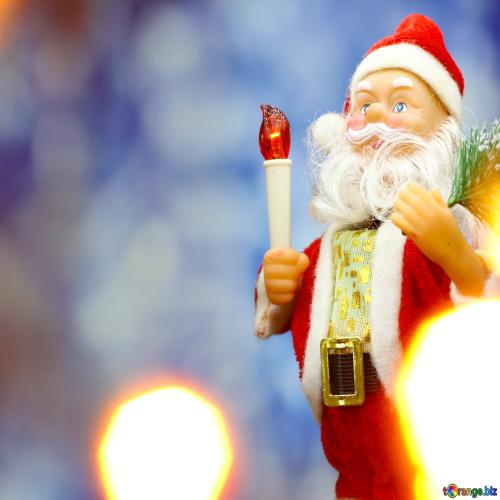Santa: (252, 14, 498, 498)
